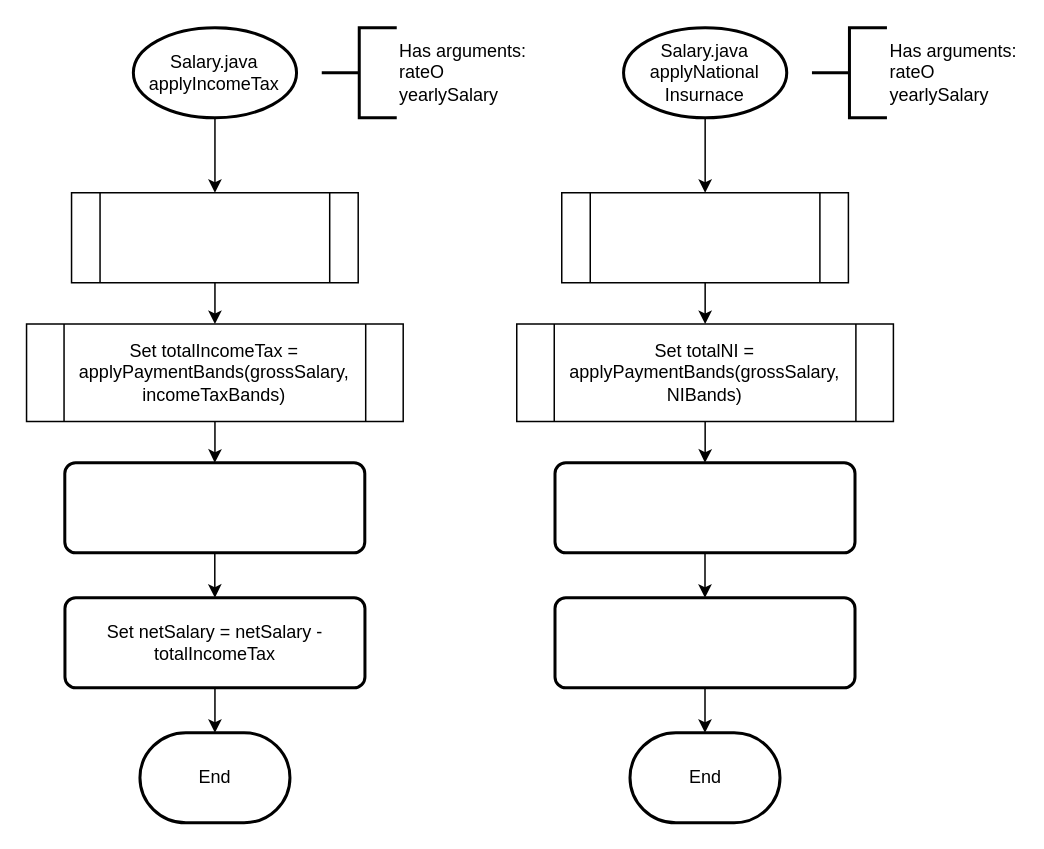
Some shapes in this 1044 by 849 pixel diagram are drawn without their labels. The shapes that lost their labels are listed below. From the top down, each one's centre as x and y in pixels, then its label:
At pixel 214 237: "Set incomeTaxBands = rateIO.incomeTax".
At pixel 704 237: "Set NIBands = rateIO.nationalInsurance".
At pixel 214 507: "Set totalDeductions = totalDeductions + totalIncomeTax".
At pixel 704 507: "Set totalDeductions = totalDeductions + totalNI".
At pixel 704 642: "Set netSalary = netSalary - totalNI".
